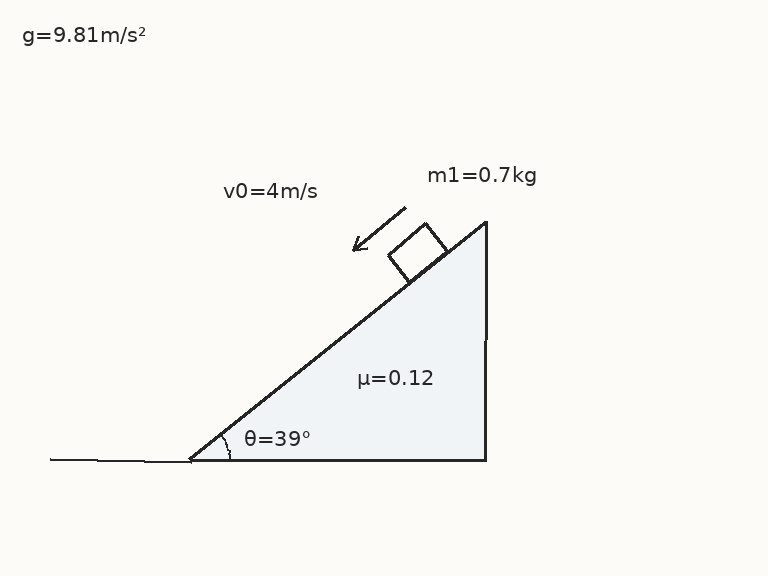block: (385, 222, 449, 284)
ramp: (188, 219, 487, 462)
